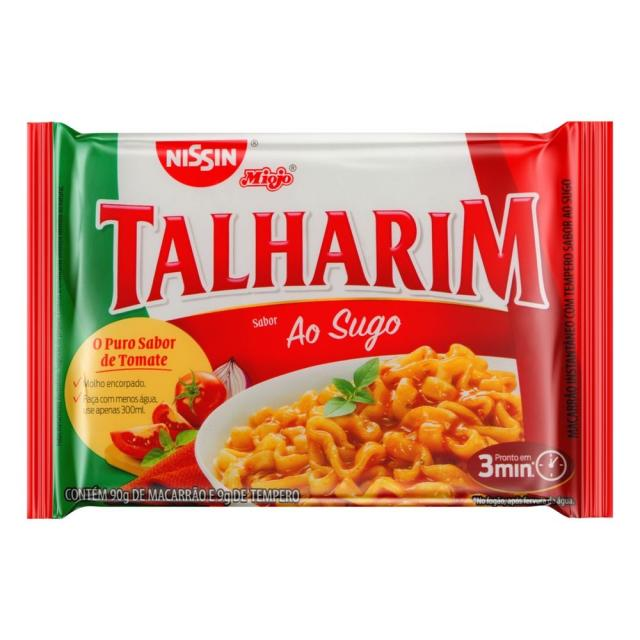pasta package: (29, 123, 611, 517)
